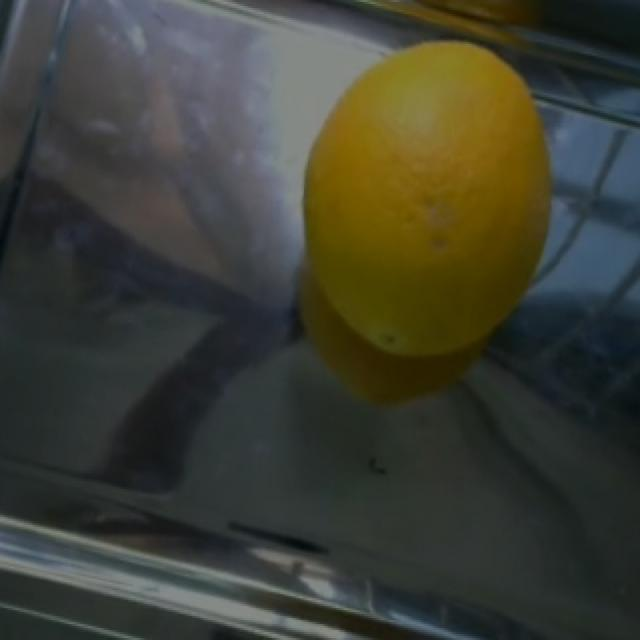Fruit: (274, 14, 570, 387)
